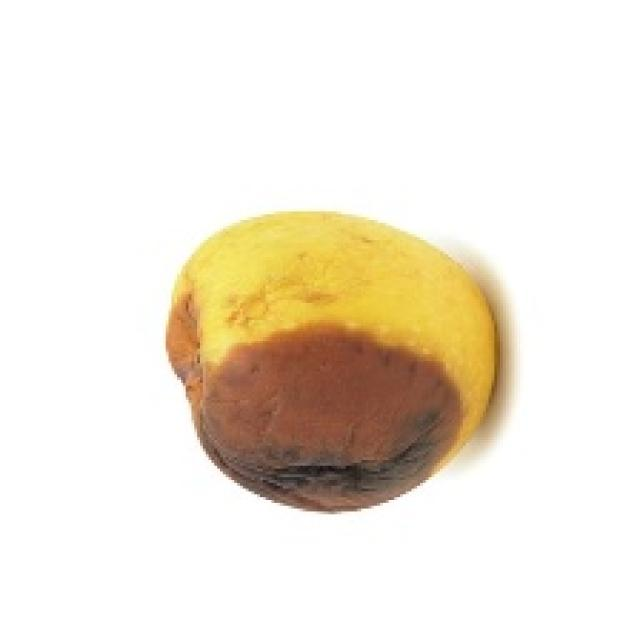rotten_apple: (171, 213, 493, 510)
